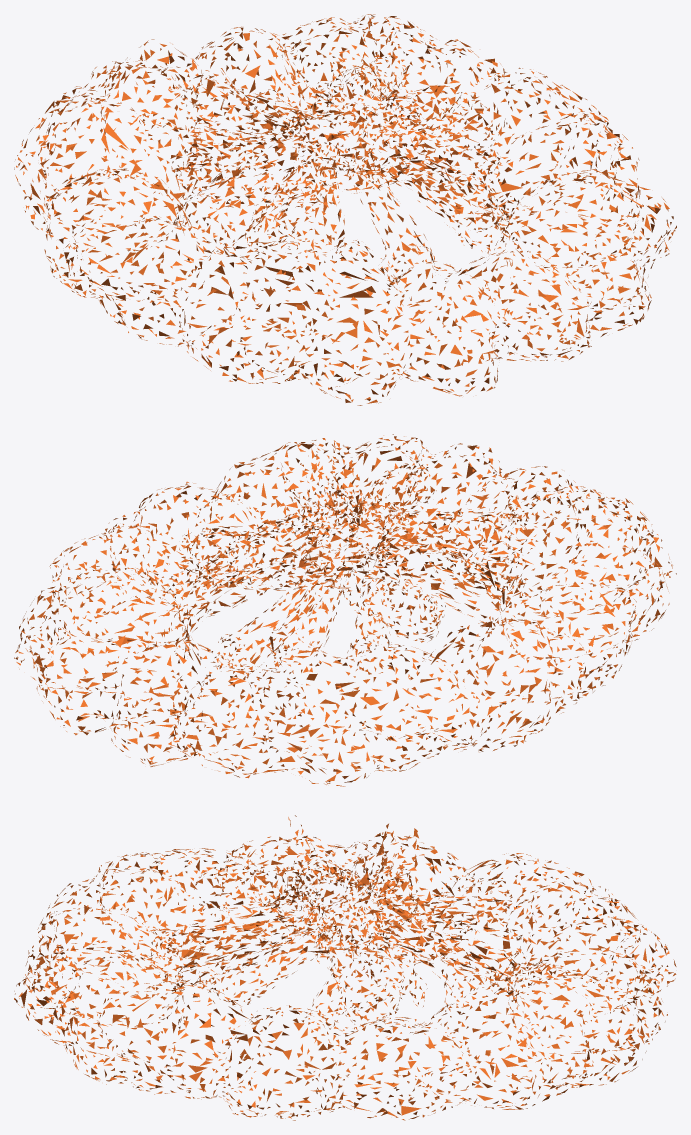
The model's file is campfire.obj.
The picture shows the model from 3 angles, top to bottom: view 1: azimuth 30°, elevation 25°; view 2: azimuth 150°, elevation 25°; view 3: azimuth 270°, elevation 25°; orthographic projection. The views are drawn at different scales.
Size of the model in its own units: 1 by 0.396 by 1.2.
